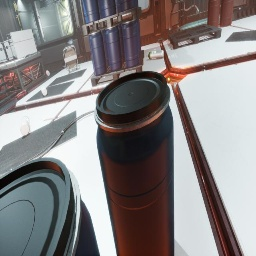0: (20, 116, 30, 136), (146, 50, 164, 60), (41, 85, 47, 96), (46, 70, 50, 76)
FireExtinguisher ]: (14, 88, 28, 102)
